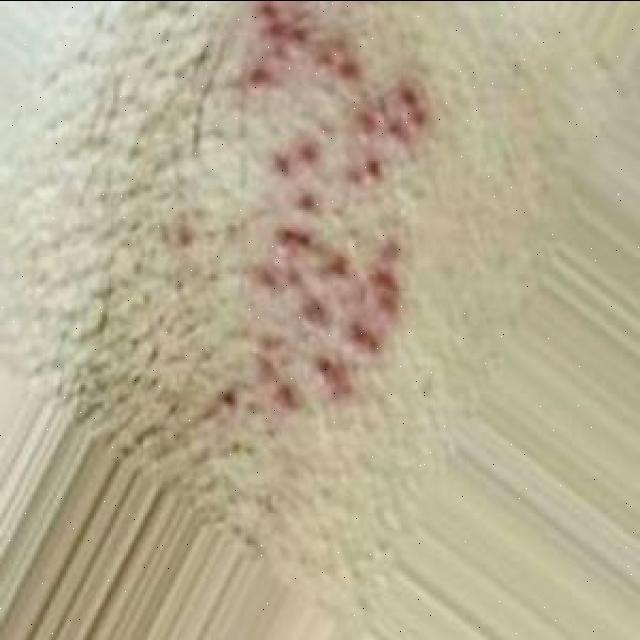Shingles: (217, 0, 427, 415)
